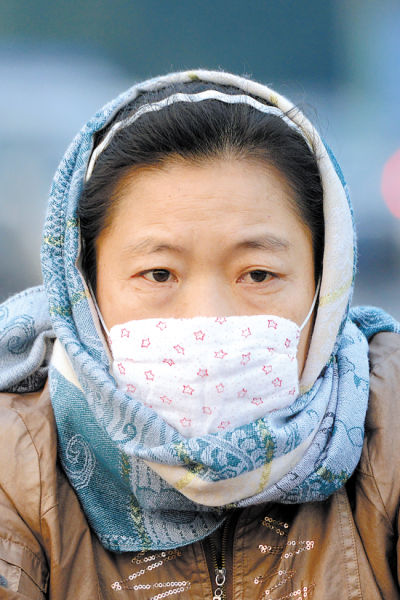face_mask: (96, 149, 319, 465)
